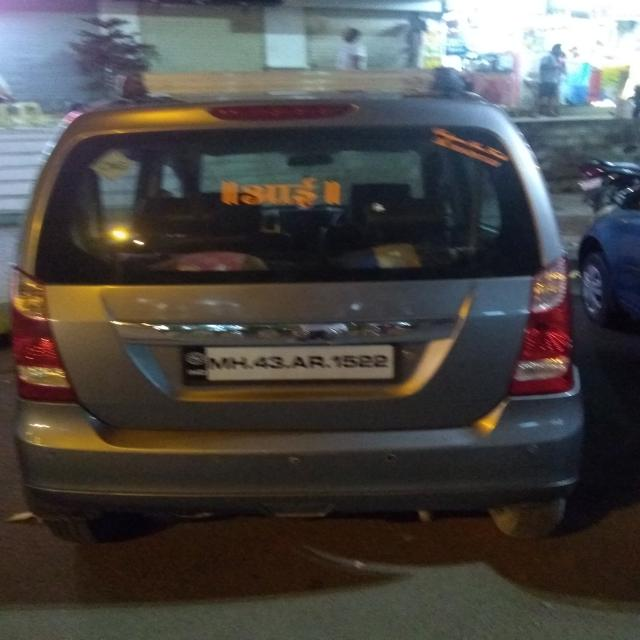Number-Plate: (191, 343, 395, 379)
